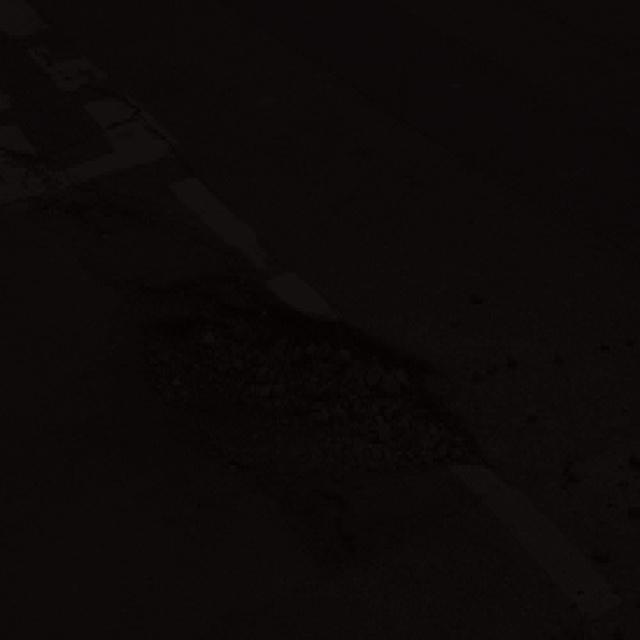Pothole: (33, 150, 496, 562)
